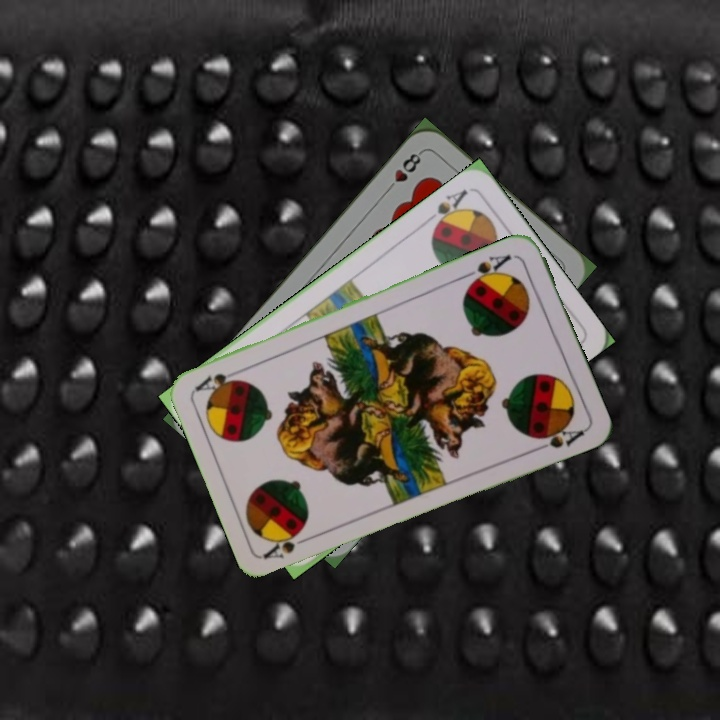H8: (382, 147, 425, 196)
SA: (421, 184, 471, 234), (460, 249, 514, 289), (260, 530, 318, 562)
